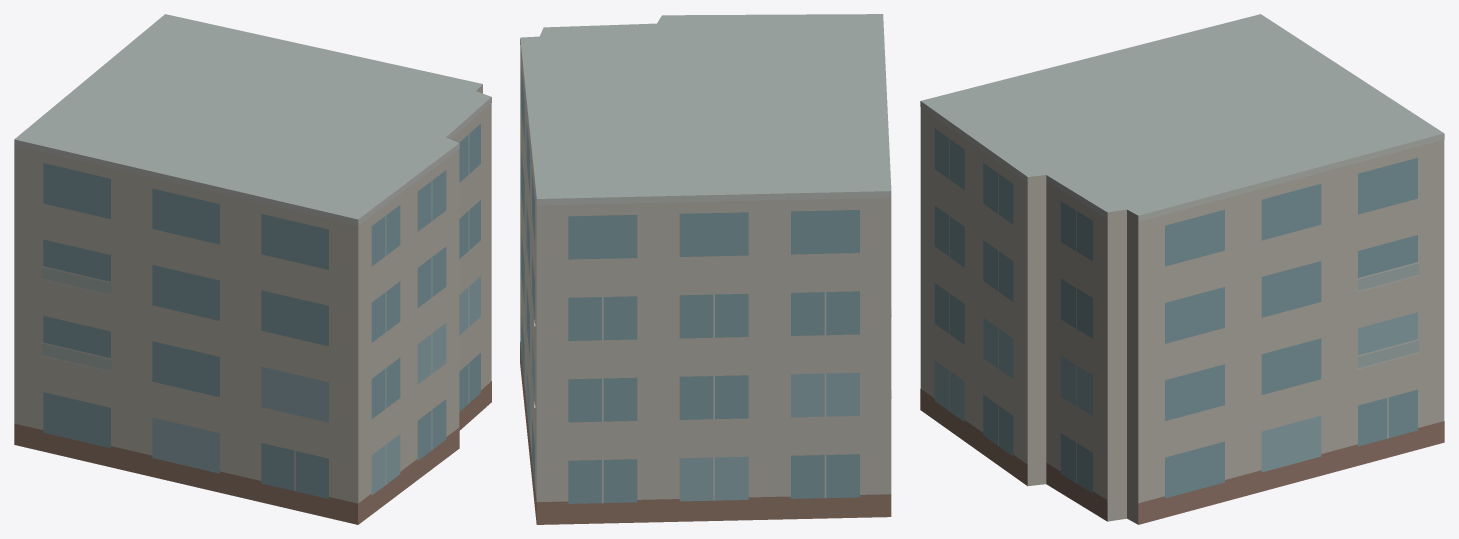
File: survey-upis-32672004.glb
3 renders of one model, left to right at view 1: azimuth 30°, elevation 25°; view 2: azimuth 150°, elevation 25°; view 3: azimuth 270°, elevation 25°, orthographic. The views are drawn at different scales.
Visible parts, largest first — view 1: survey-upis-32672004.tmp; view 2: survey-upis-32672004.tmp; view 3: survey-upis-32672004.tmp.
Part boxes in pixels (<box>): survey-upis-32672004.tmp: <box>14,14,491,524</box>; survey-upis-32672004.tmp: <box>520,14,891,524</box>; survey-upis-32672004.tmp: <box>920,14,1444,524</box>.
Bounding box in the file's own units: 17.08 × 12.2 × 18.75.
